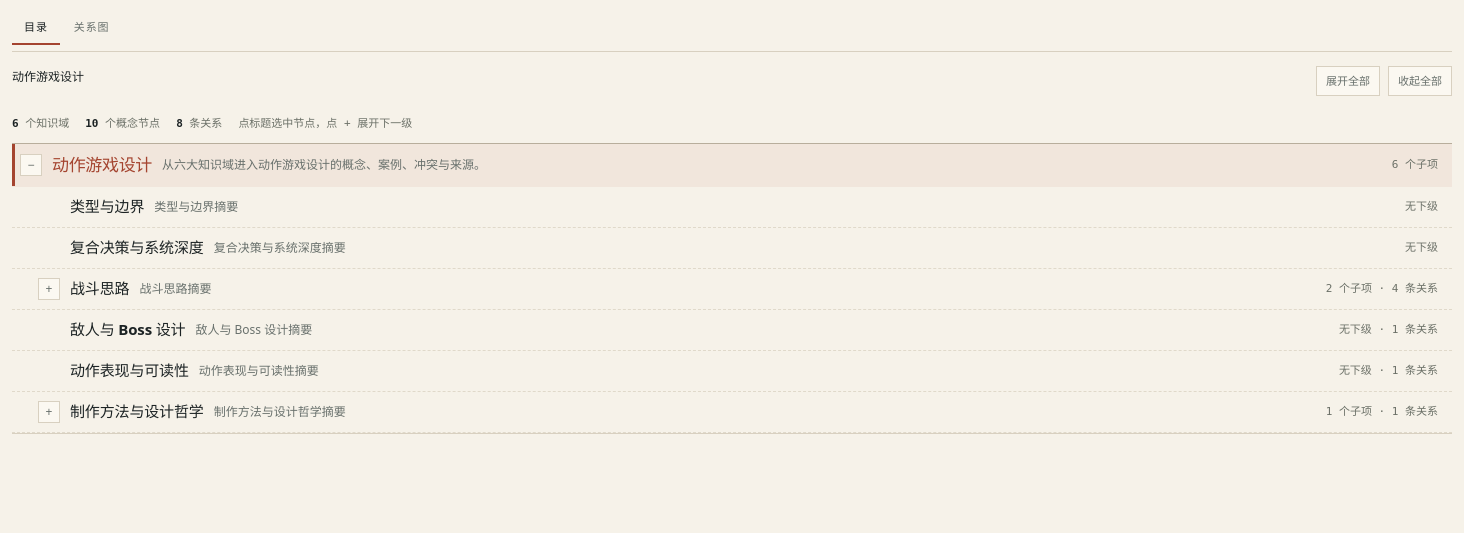
StructureExplorer › expands and collapses one level without changing selection
The width and height of the screenshot is (1464, 533).
Click the button named "展开 战斗思路 的下一级" at coordinates (49, 288), box [38,278,60,300]
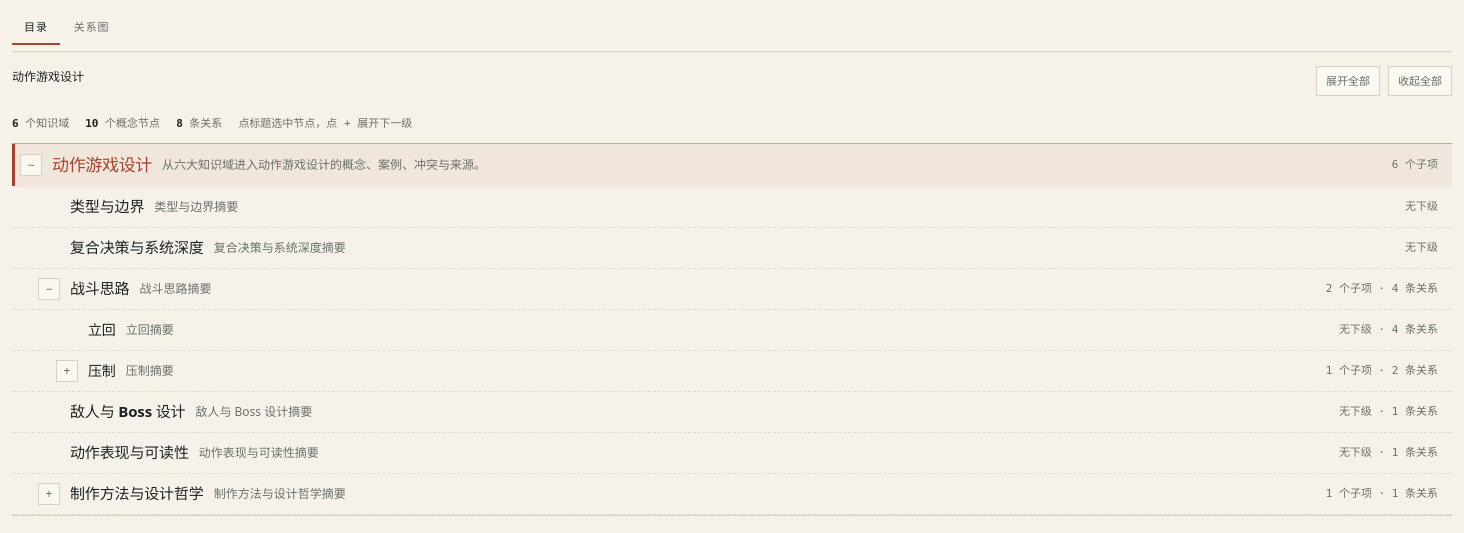
Expected: the list item with test id "graph-node-neutral" is shown, [12,310,1452,350]
Expected: the button named "收起 战斗思路 的下一级" is shown
Click the button named "收起 战斗思路 的下一级" at coordinates (49, 288), box [38,278,60,300]
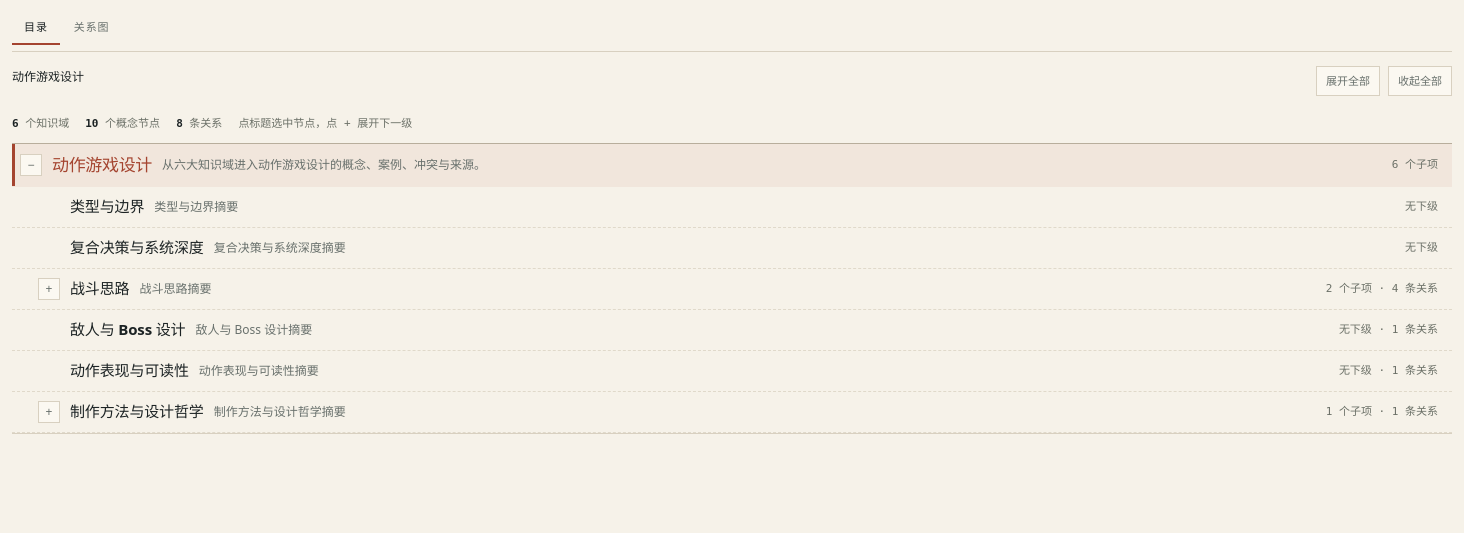
Expected: the list item with test id "graph-node-neutral" is gone
